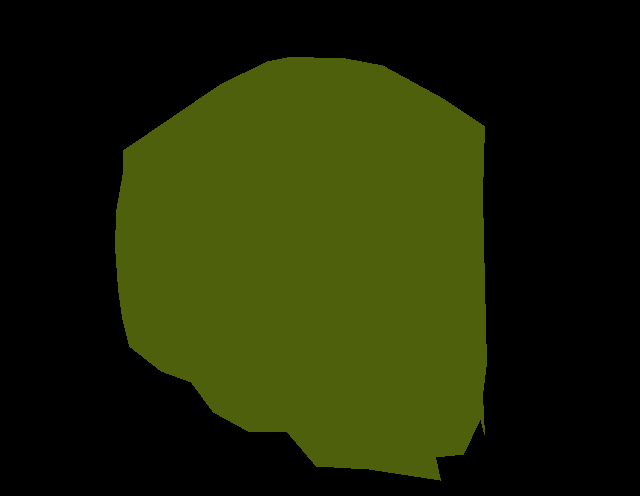Train: (115, 57, 487, 480)
